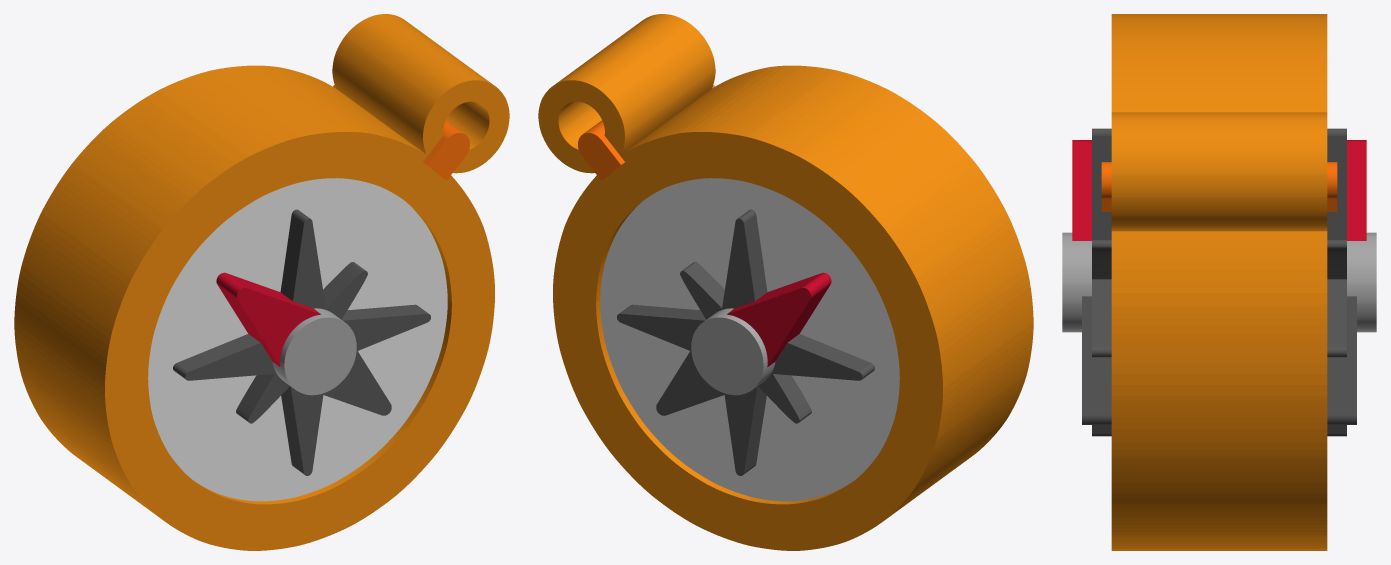
3 renders of one model, left to right at view 1: azimuth 30°, elevation 25°; view 2: azimuth 150°, elevation 25°; view 3: azimuth 270°, elevation 25°, orthographic. The views are drawn at different scales.
Visible parts, largest first — view 1: U+1F9ED_layer01_obj00, U+1F9ED_layer00_obj00, U+1F9ED_layer03_obj00, U+1F9ED_layer06_obj00, U+1F9ED_layer05_obj00, U+1F9ED_layer04_obj00, U+1F9ED_layer02_obj00; view 2: U+1F9ED_layer01_obj00, U+1F9ED_layer00_obj00, U+1F9ED_layer03_obj00, U+1F9ED_layer06_obj00, U+1F9ED_layer05_obj00, U+1F9ED_layer04_obj00, U+1F9ED_layer02_obj00; view 3: U+1F9ED_layer01_obj00, U+1F9ED_layer03_obj00, U+1F9ED_layer04_obj00, U+1F9ED_layer06_obj00, U+1F9ED_layer05_obj00, U+1F9ED_layer02_obj00.
Boxes of the visible parts, box(x1,y1,x2,y2) form: U+1F9ED_layer01_obj00: box(14, 14, 509, 550); U+1F9ED_layer00_obj00: box(148, 178, 447, 501); U+1F9ED_layer03_obj00: box(173, 209, 430, 475); U+1F9ED_layer06_obj00: box(272, 308, 356, 395); U+1F9ED_layer05_obj00: box(216, 272, 321, 366); U+1F9ED_layer04_obj00: box(321, 350, 391, 415); U+1F9ED_layer02_obj00: box(333, 85, 469, 180); U+1F9ED_layer01_obj00: box(538, 14, 1033, 550); U+1F9ED_layer00_obj00: box(600, 178, 899, 501); U+1F9ED_layer03_obj00: box(617, 209, 874, 475); U+1F9ED_layer06_obj00: box(691, 308, 775, 395); U+1F9ED_layer05_obj00: box(726, 272, 831, 366); U+1F9ED_layer04_obj00: box(656, 350, 726, 415); U+1F9ED_layer02_obj00: box(578, 85, 714, 180); U+1F9ED_layer01_obj00: box(1111, 14, 1327, 550); U+1F9ED_layer03_obj00: box(1092, 128, 1346, 436); U+1F9ED_layer04_obj00: box(1082, 296, 1356, 424); U+1F9ED_layer06_obj00: box(1062, 232, 1376, 332); U+1F9ED_layer05_obj00: box(1072, 140, 1366, 240); U+1F9ED_layer02_obj00: box(1101, 162, 1337, 211).
Bounding box in the file's own units: 0.5678 × 0.5677 × 0.32.
